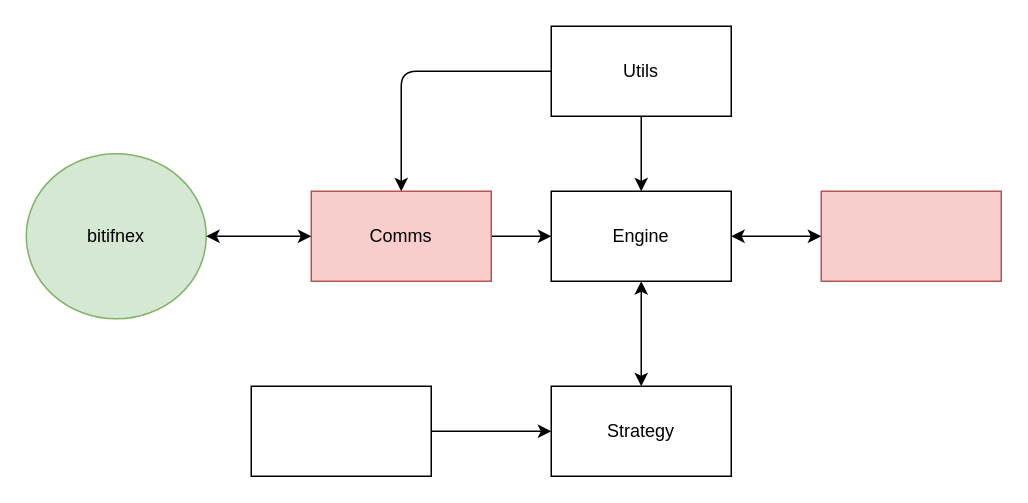
Image size: 1028x503. Some labels were removed from this diagram. Each missing label, with the centre of its shape:
"Indicators" goes at (x=340, y=430).
"Storage" goes at (x=910, y=235).
